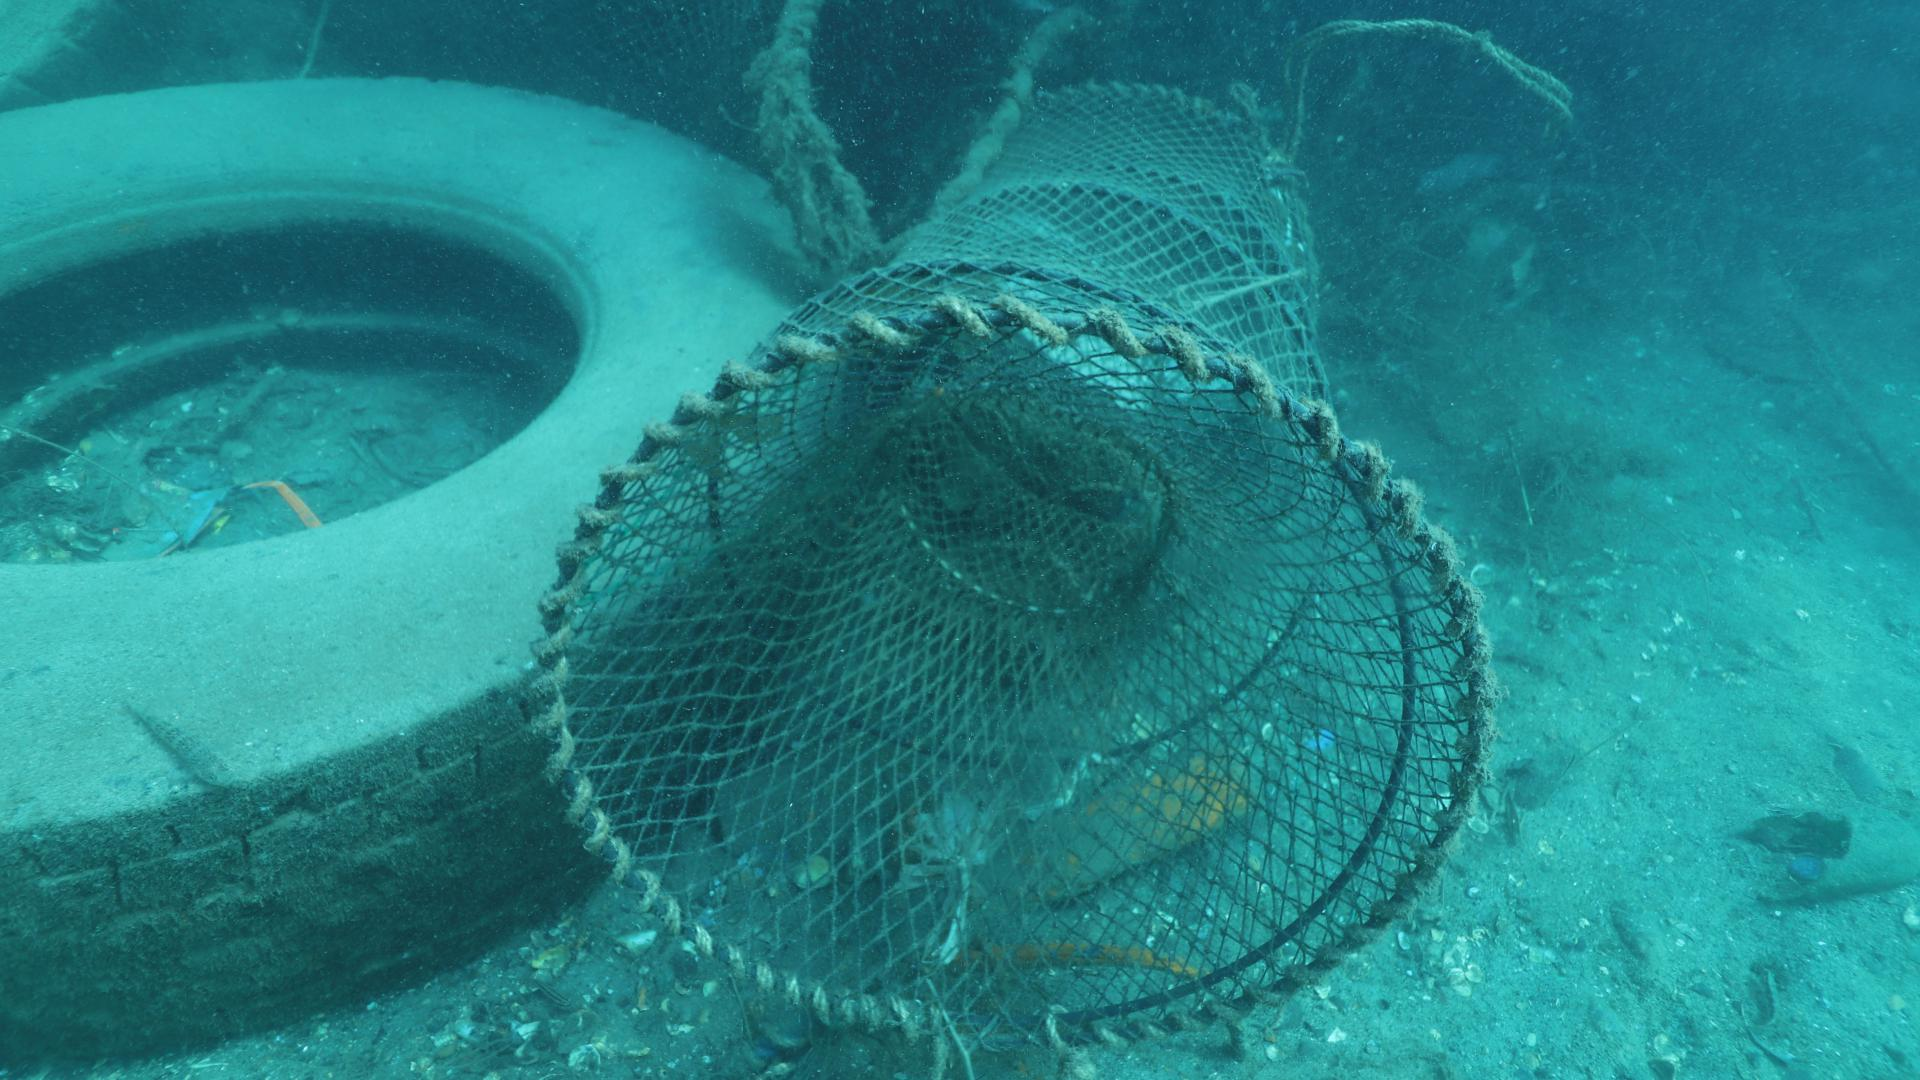bundle of ropes: (1273, 15, 1576, 164)
spring fish trap: (535, 82, 1497, 1043)
tire: (0, 76, 841, 1064)
